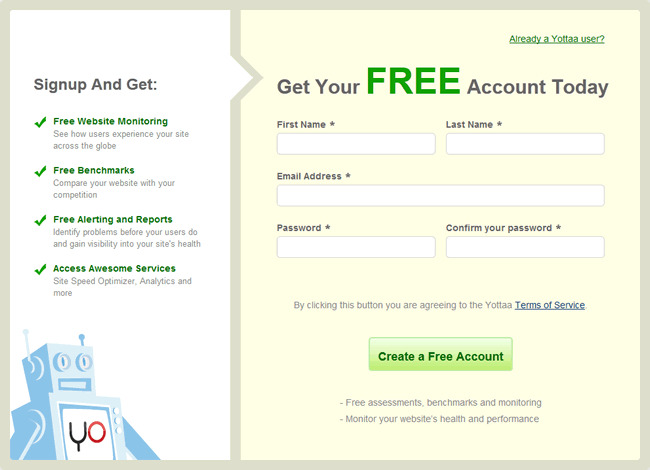_form_: (215, 25, 631, 441)
button: (368, 337, 514, 371)
field: (275, 184, 606, 207), (443, 131, 606, 156), (275, 132, 437, 156), (443, 235, 605, 258), (275, 236, 437, 258)
